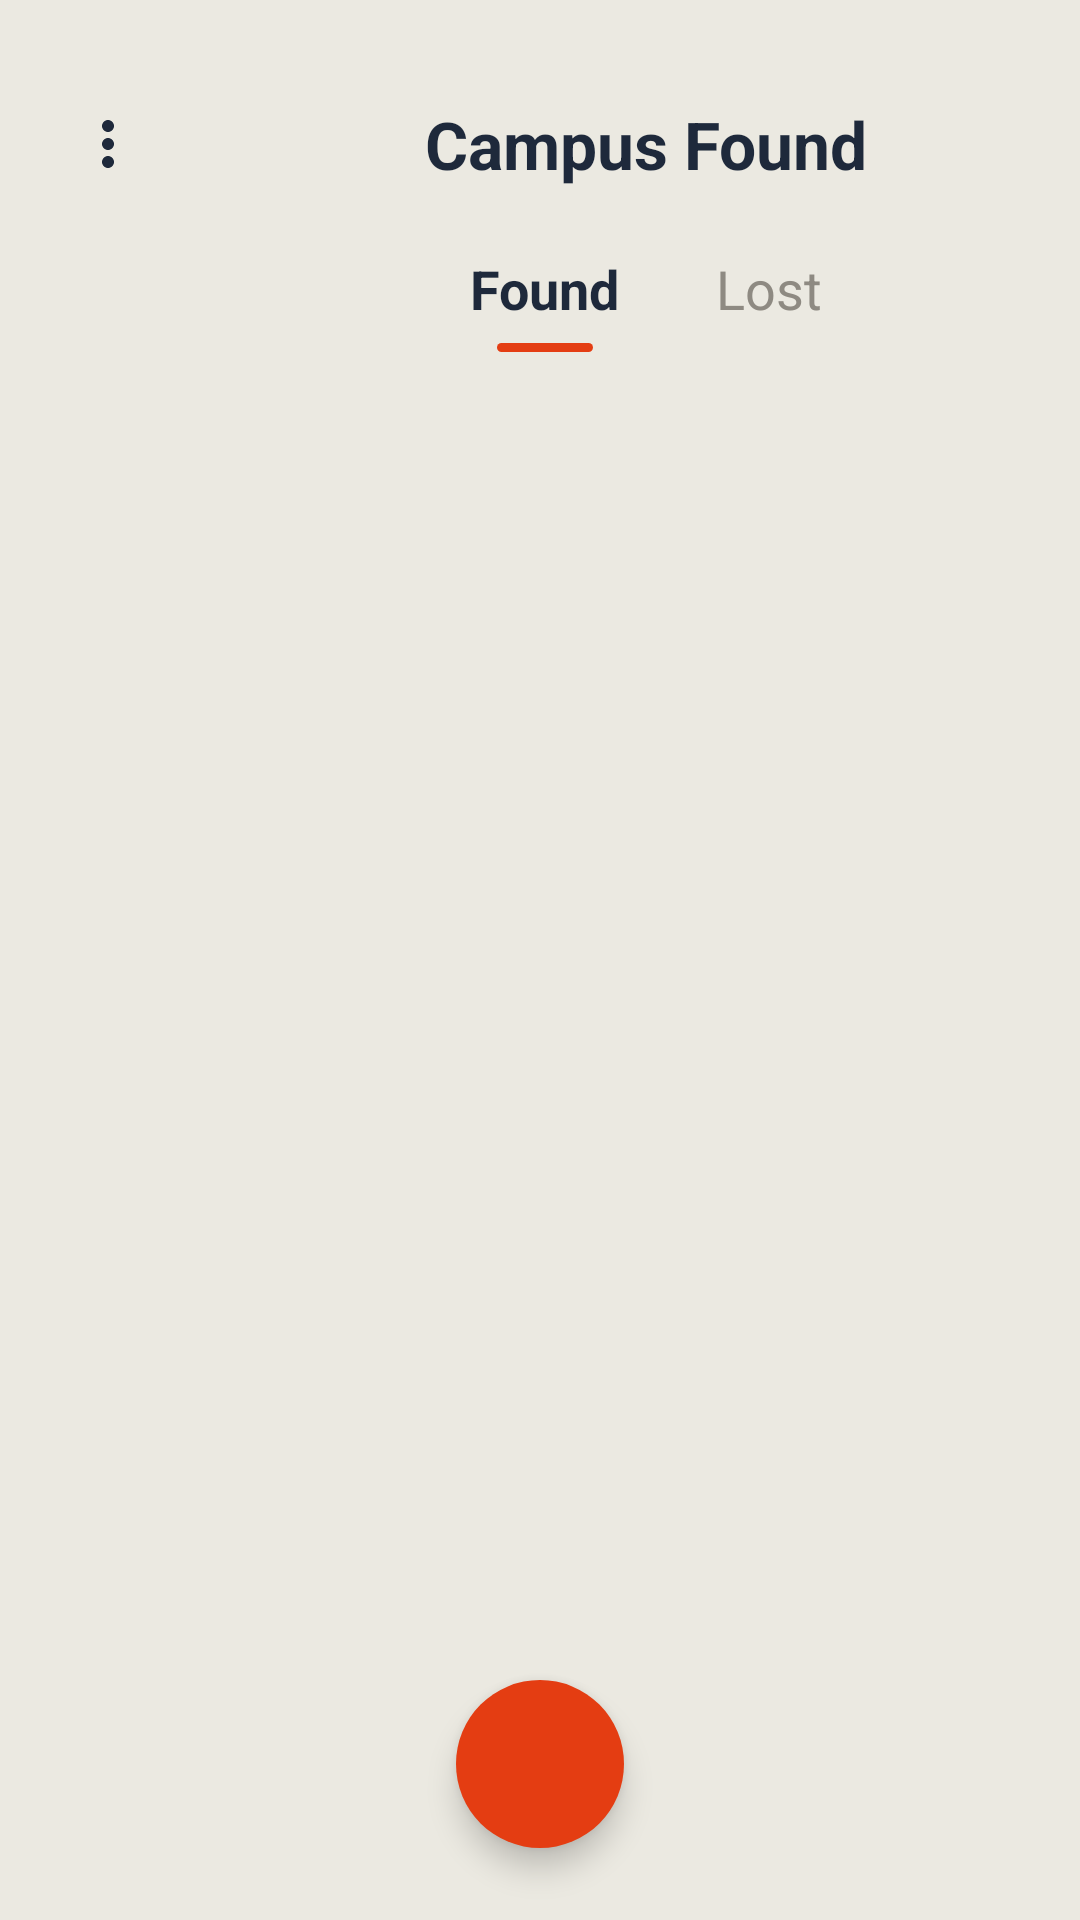

Icon bounding boxes for this 1080 × 1920 phone screenshot, format {"left": x1, "top": y1, "right": x2, "bottom": y2}:
Menu: {"left": 102, "top": 120, "right": 114, "bottom": 168}
